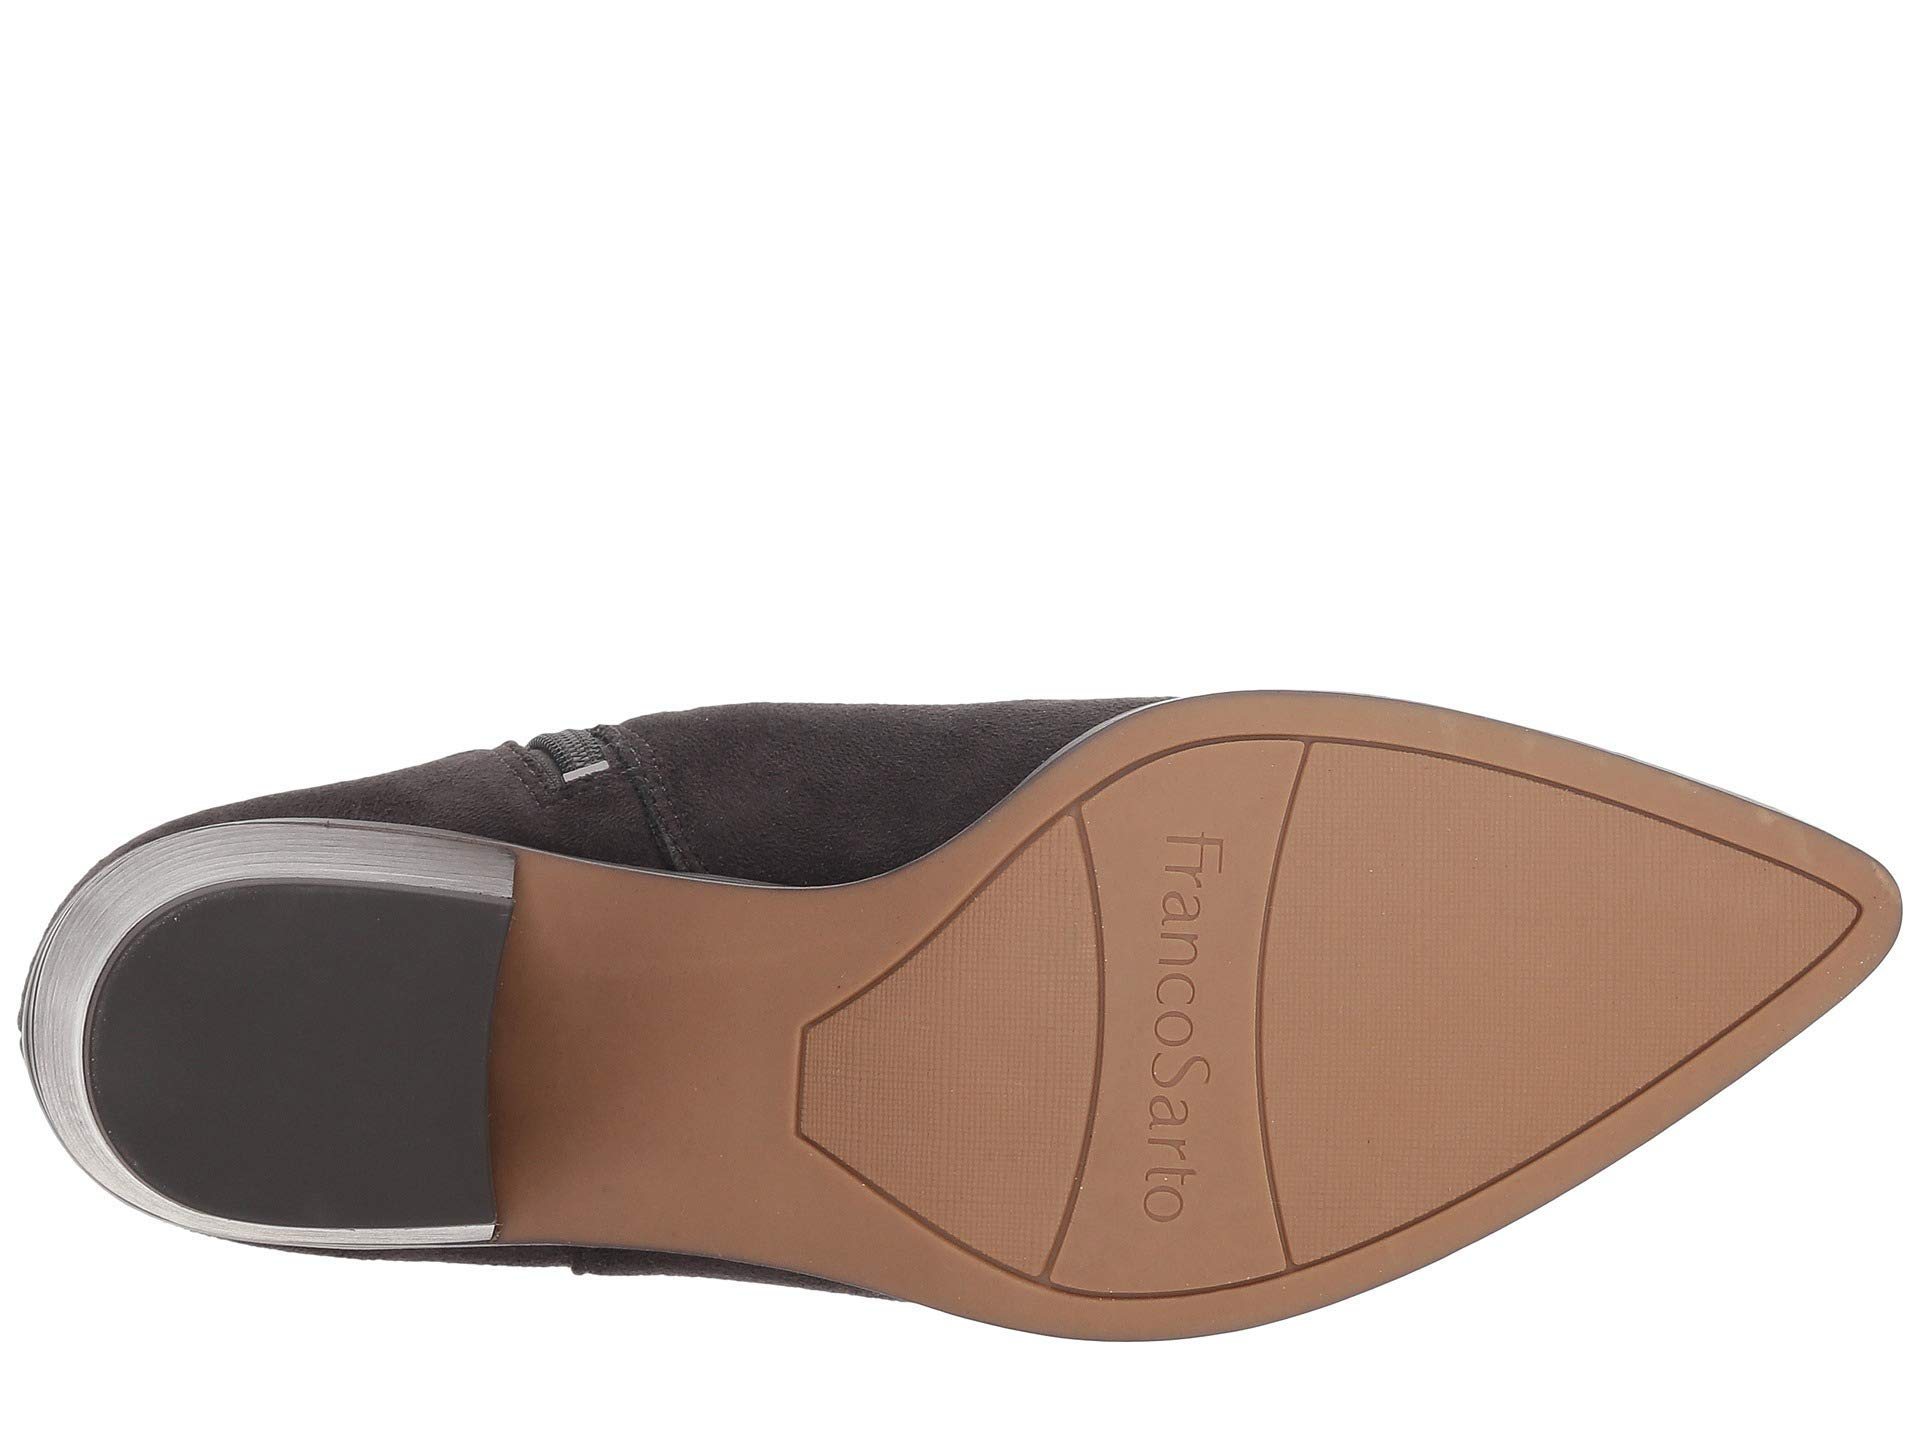circle: (1048, 725, 1342, 1305)
line: (1048, 725, 1342, 1305), (1439, 734, 1761, 1171)
quad: (1048, 725, 1342, 1305)
text: (1048, 725, 1342, 1305)
